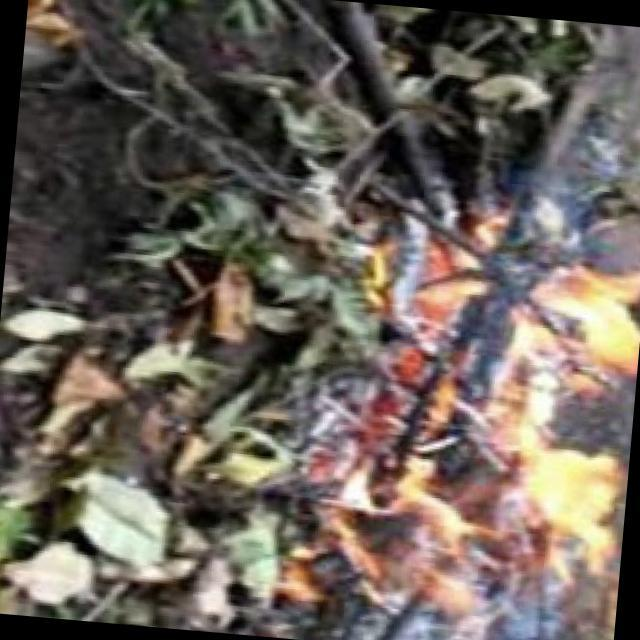Fire: (300, 188, 640, 640)
